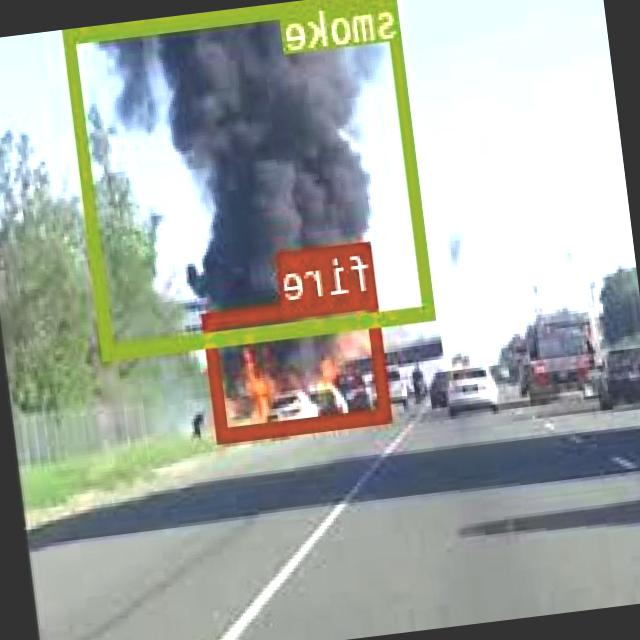fire: (204, 292, 392, 438)
smoke: (65, 0, 436, 354)
